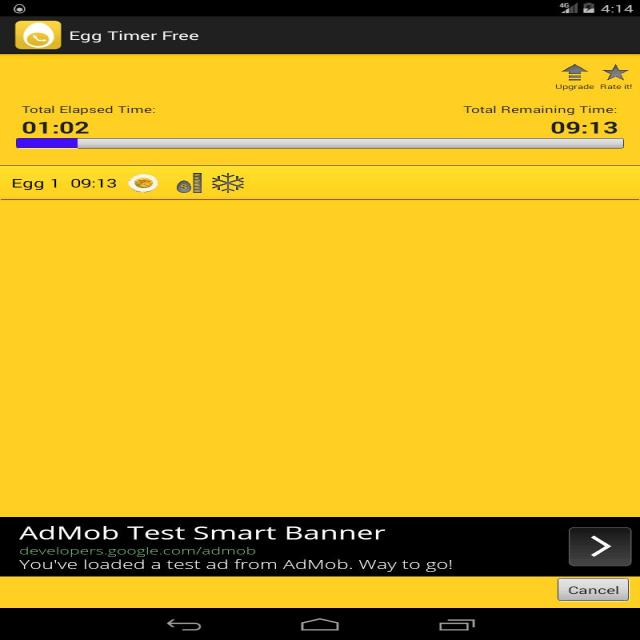button: (556, 64, 636, 93), (558, 581, 626, 603)
heading: (61, 27, 214, 49)
iframe: (2, 516, 640, 576)
image: (14, 135, 621, 150), (130, 172, 250, 198), (14, 22, 63, 52)
text: (10, 170, 122, 195), (458, 102, 616, 119), (20, 104, 155, 116), (544, 118, 625, 138), (18, 118, 91, 137)
